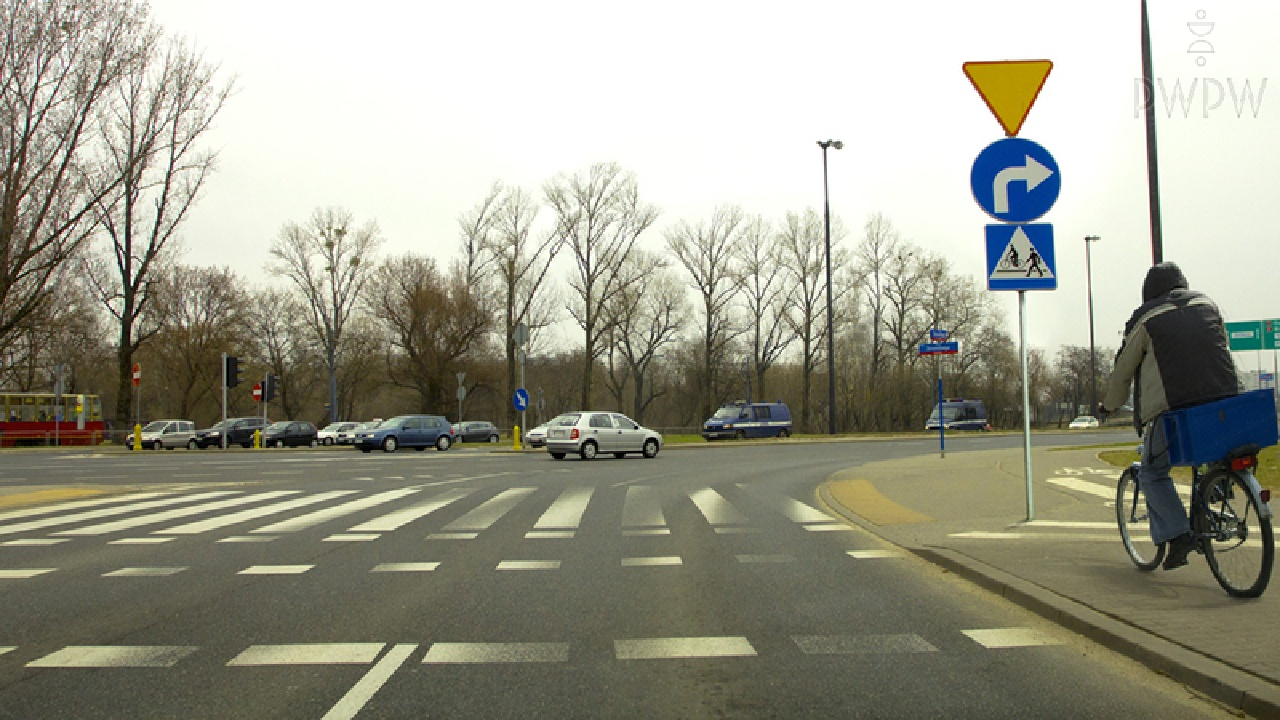A7: (959, 59, 1055, 139)
C2: (970, 136, 1063, 222)
D6b: (985, 227, 1059, 295)
